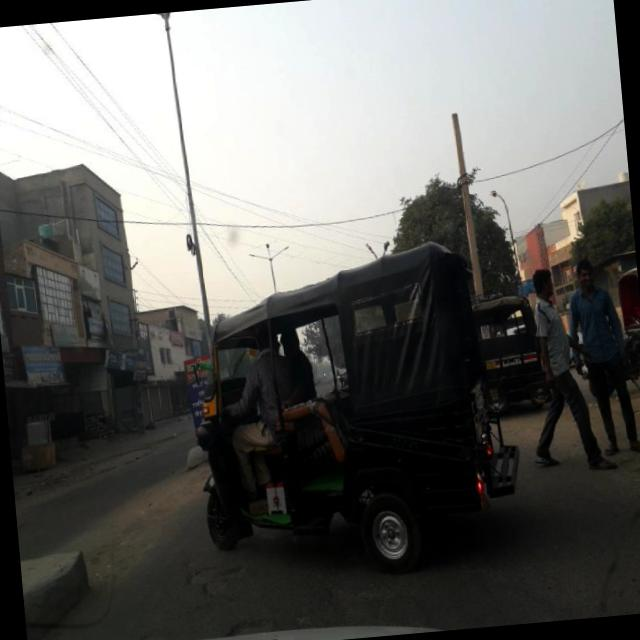pothole: (321, 574, 406, 624), (181, 554, 252, 602), (127, 614, 175, 640)
